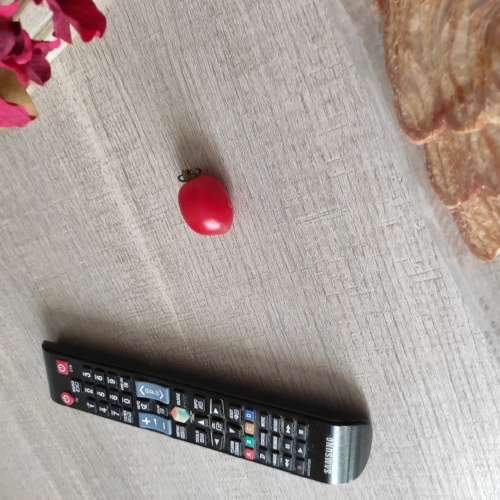pomodoro: (171, 165, 242, 240)
